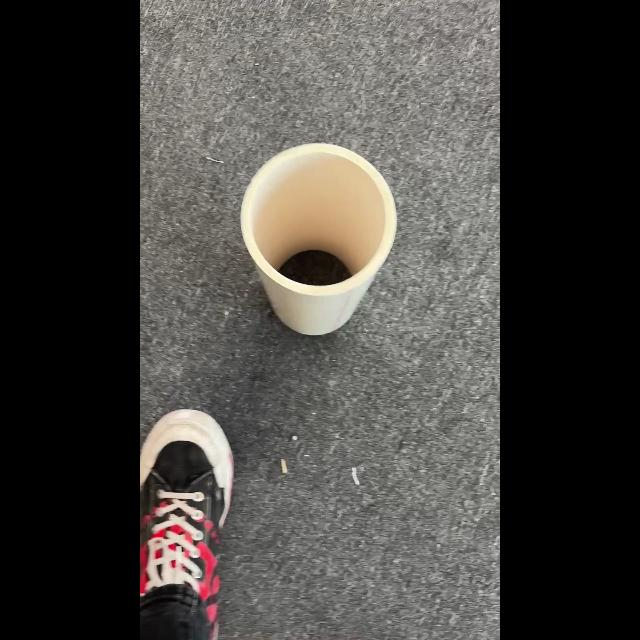CORAL: (239, 140, 397, 336)
